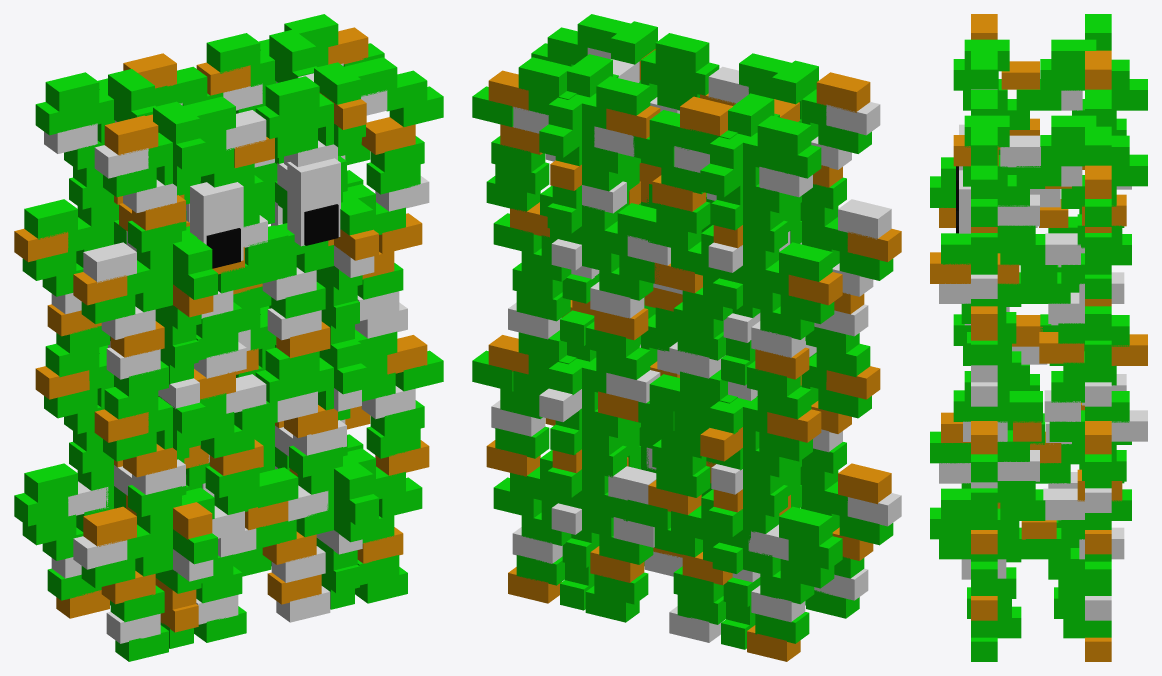
The picture shows the model from 3 angles, left to right: view 1: azimuth 30°, elevation 25°; view 2: azimuth 150°, elevation 25°; view 3: azimuth 270°, elevation 25°; orthographic projection. The views are drawn at different scales.
Parts seen in each view (by area): view 1: pCube2750, pCube2749, pCube1799, pCube2051, pCube1790, pCube2015, pCube1826, pCube1835, pCube1862, pCube1898, pCube2177, pCube1961 (+171 smaller); view 2: pCube1799, pCube2015, pCube1862, pCube1790, pCube1835, pCube2051, pCube1898, pCube1826, pCube2069, pCube1853, pCube1943, pCube2159 (+180 smaller); view 3: pCube2196, pCube2177, pCube2204, pCube2160, pCube1961, pCube2162, pCube2168, pCube2069, pCube2033, pCube1853, pCube2152, pCube1960 (+133 smaller).
Boxes of the visible parts, box(x1,y1,x2,y2) form: pCube2750: box(287, 158, 340, 246); pCube2749: box(190, 182, 243, 260); pCube1799: box(104, 115, 158, 155); pCube2051: box(206, 33, 260, 73); pCube1790: box(83, 242, 136, 283); pCube2015: box(265, 76, 319, 116); pCube1826: box(24, 199, 77, 239); pCube1835: box(45, 72, 99, 112); pCube1862: box(83, 506, 136, 546); pCube1898: box(24, 463, 77, 502); pCube2177: box(269, 29, 316, 71); pCube1961: box(108, 69, 154, 111); pCube1799: box(816, 72, 870, 112); pCube2015: box(655, 33, 709, 73); pCube1862: box(838, 463, 891, 504); pCube1790: box(838, 199, 891, 239); pCube1835: box(757, 115, 811, 155); pCube2051: box(596, 76, 650, 115); pCube1898: box(779, 506, 832, 546); pCube1826: box(779, 242, 832, 281); pCube2069: box(518, 57, 571, 97); pCube1853: box(680, 96, 732, 135); pCube1943: box(772, 60, 818, 104); pCube2159: box(611, 21, 657, 64); pCube2196: box(998, 391, 1042, 422); pCube2177: box(1051, 115, 1096, 147); pCube2204: box(1043, 488, 1084, 520); pCube2160: box(1000, 135, 1040, 167); pCube1961: box(1051, 39, 1096, 71); pCube2162: box(1039, 332, 1084, 363); pCube2168: box(1045, 233, 1080, 264); pCube2069: box(1085, 126, 1111, 165); pCube2033: box(971, 126, 997, 165); pCube1853: box(1085, 50, 1111, 89); pCube2152: box(1000, 234, 1045, 265); pCube1960: box(1040, 59, 1084, 90).
Size of the model in its own units: 13.46 by 19.1 by 7.38.
